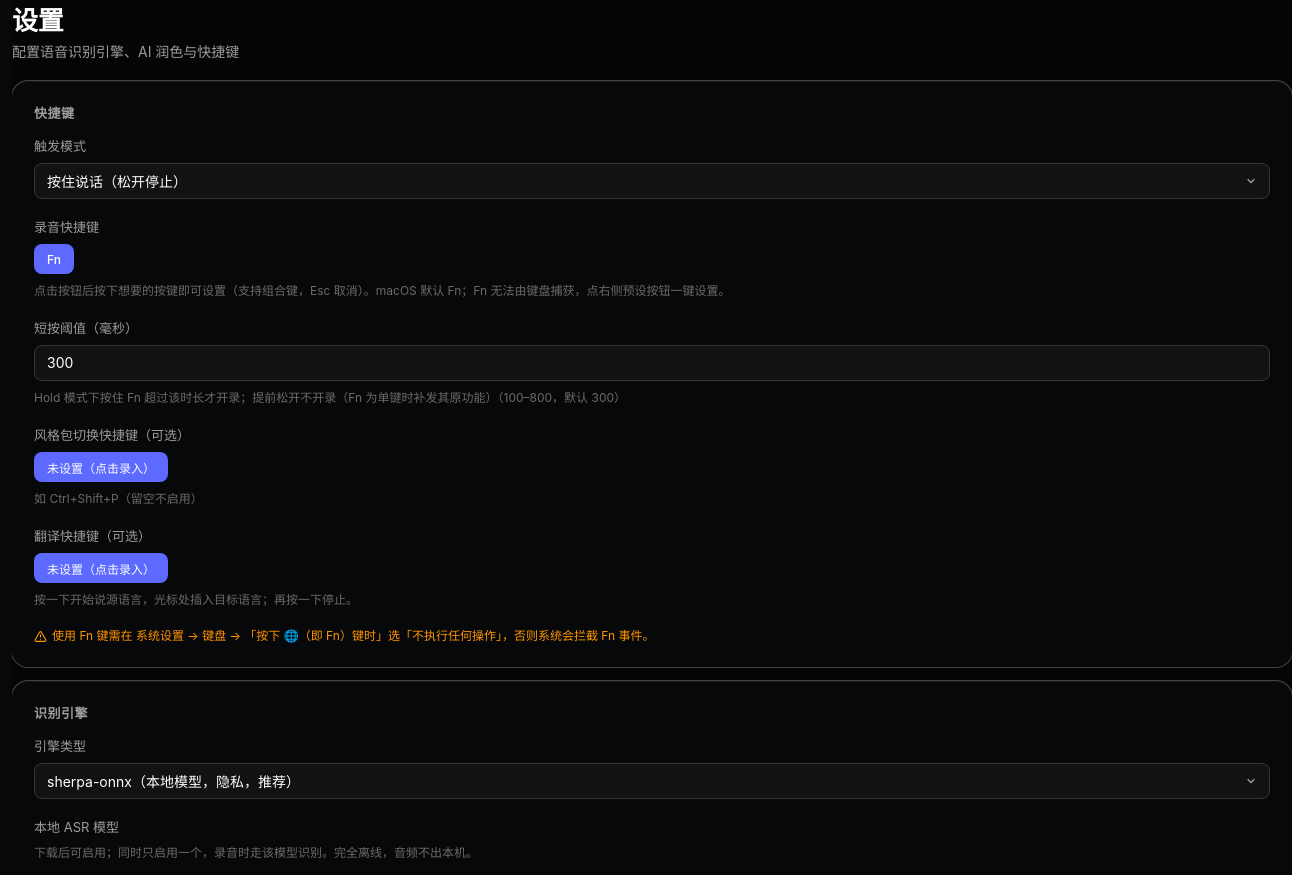
Test case: Settings › 切到 OpenAI 兼容 REST 显示 endpoint 输入
This screenshot has width=1292, height=875.
Expected: the heading "识别引擎" is shown, [34,705,88,721]
Select "OpenAI 兼容 REST（OpenRouter/OpenAI 等）" in the dropdown below "引擎类型": (652, 781) [34,763,1270,799]
(page scrolled)
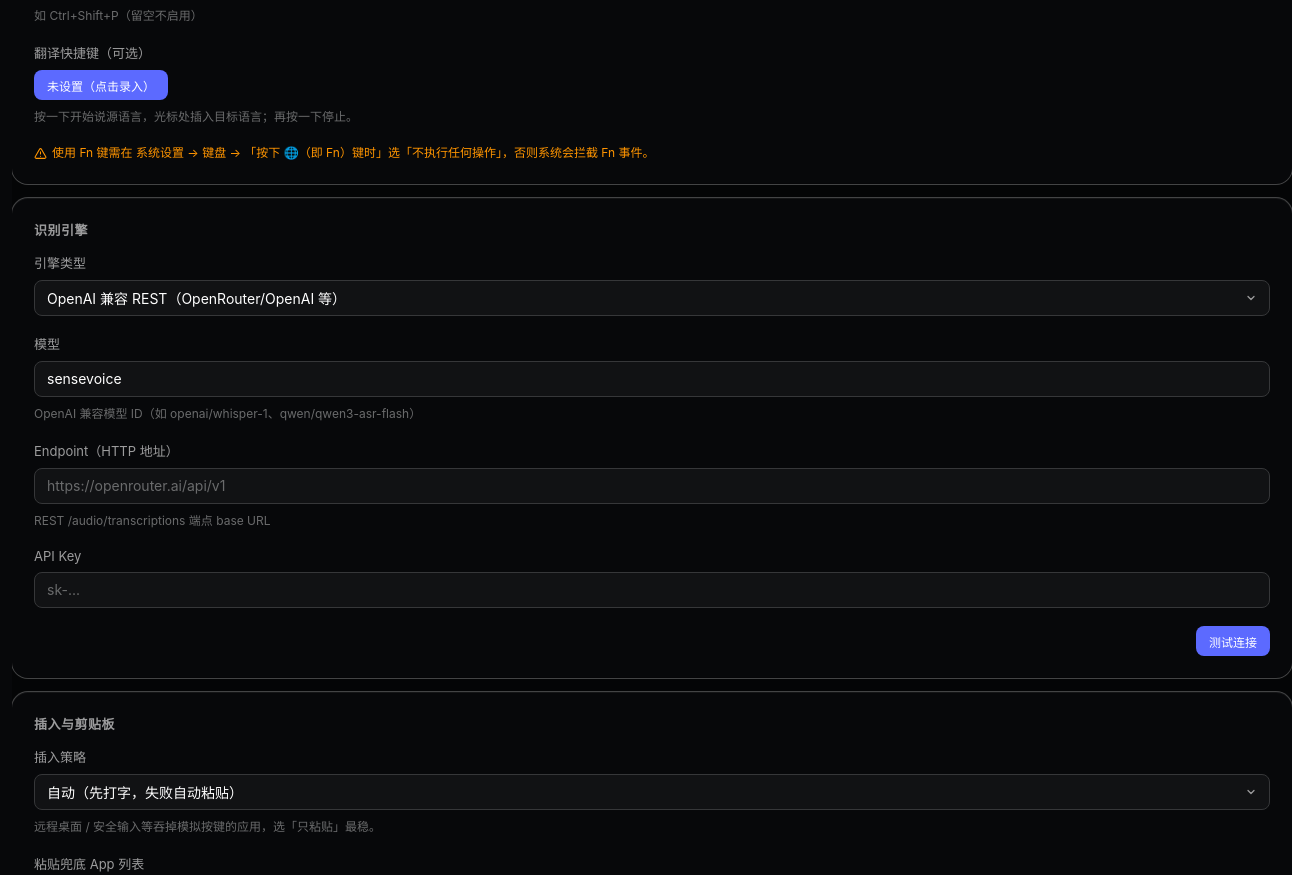
Now the text "Endpoint（HTTP 地址）" is shown, box [34,443,179,459]
